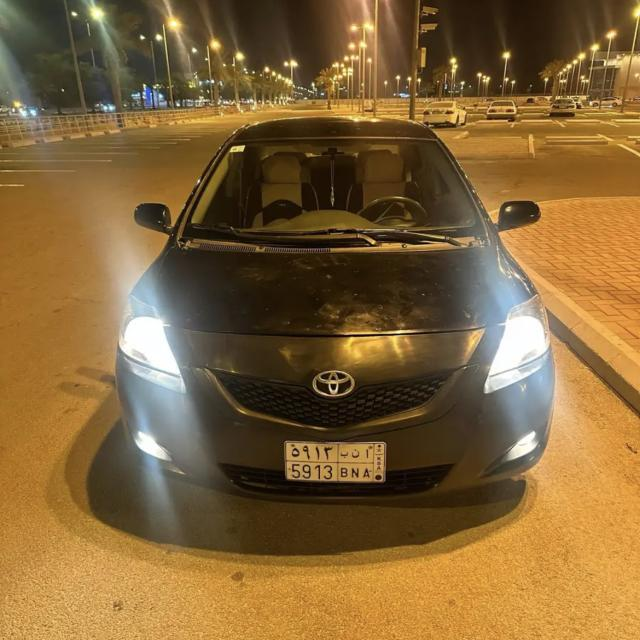license_plate: (284, 438, 386, 485)
